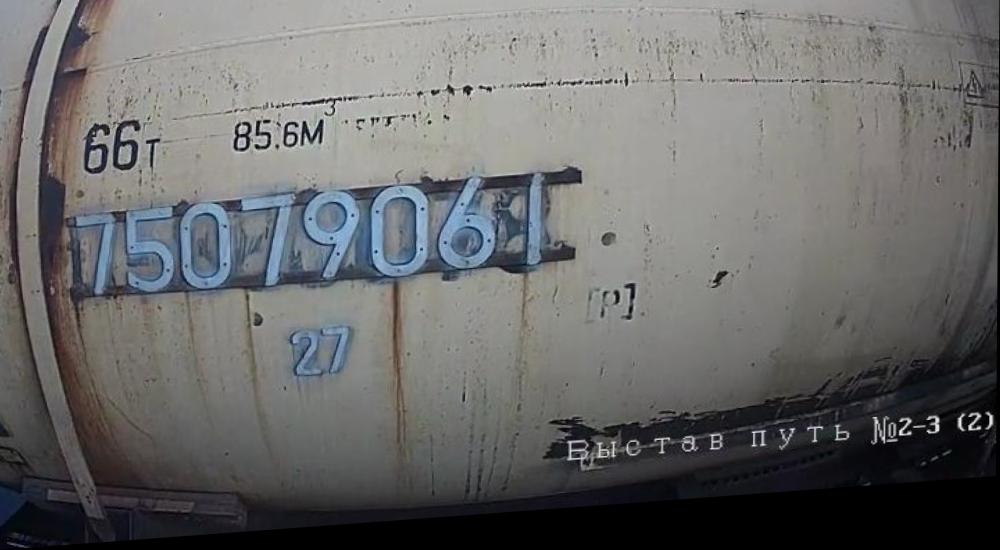Wagon-number: (73, 172, 560, 308)
